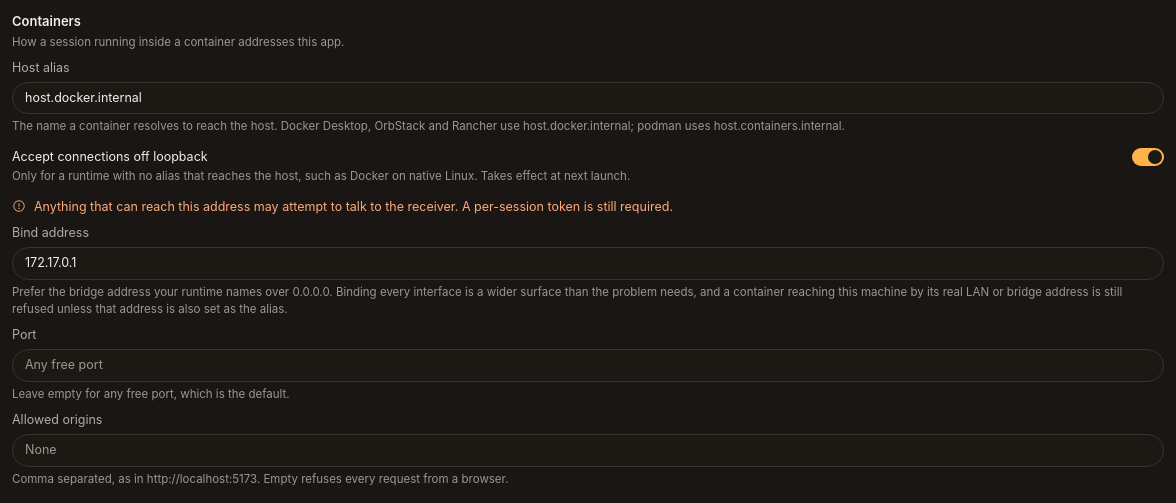
Test: the off-loopback bind › refuses to send a port that is out of range
In the field labelled "Port": [588, 365] box [12,349,1164,382], type "99999"
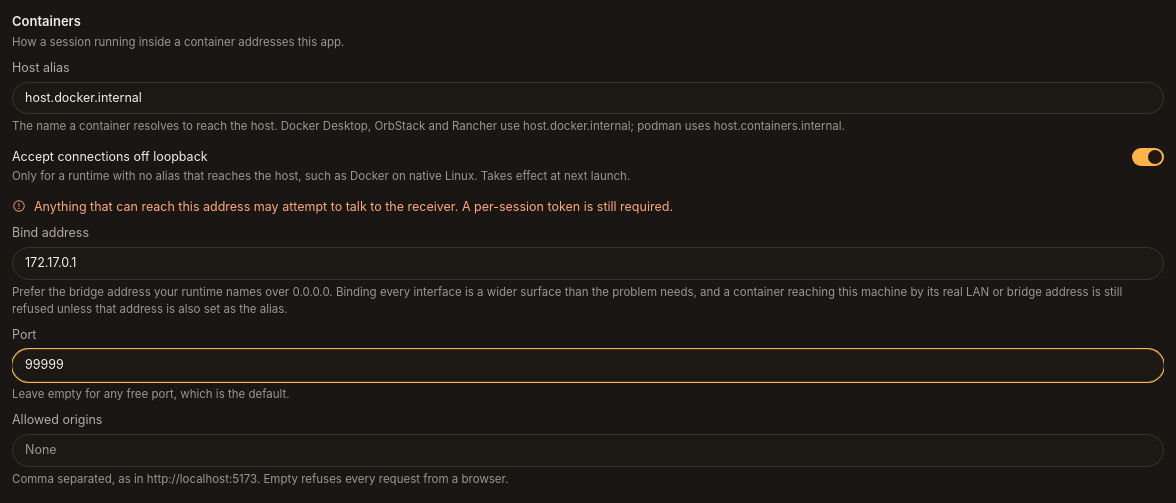
Press Tab
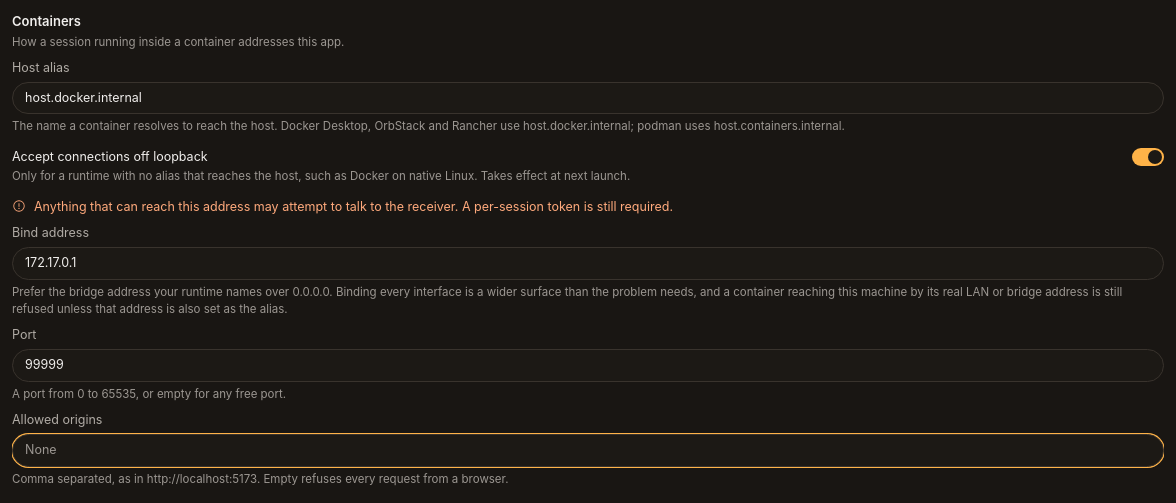
Now the text "A port from 0 to 65535, or empty for any free port." is shown, box [12,387,286,401]
